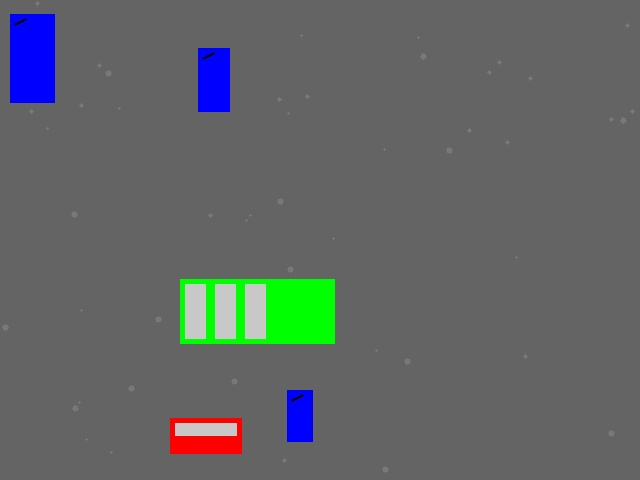bus: (180, 279, 334, 343)
car: (170, 418, 241, 453)
motorcycle: (10, 14, 54, 102), (198, 48, 229, 111), (287, 390, 312, 441)
